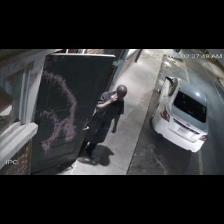person: (80, 85, 127, 160)
